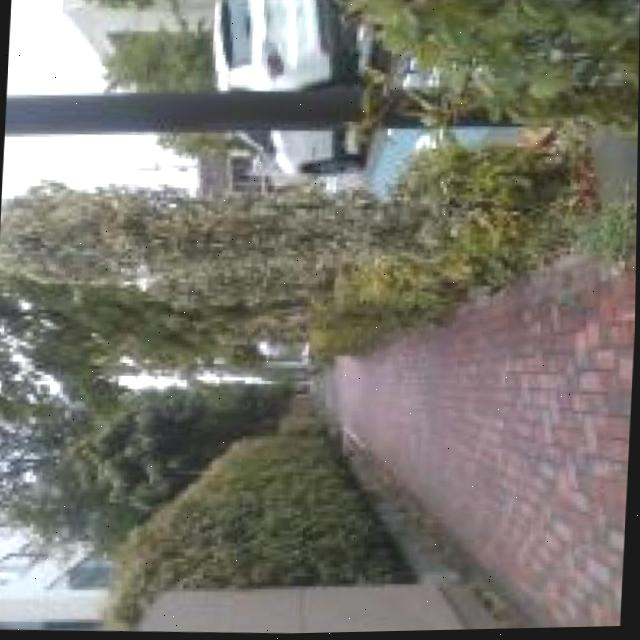Automobile: (213, 0, 387, 92), (237, 125, 367, 175)
Obstacle: (5, 0, 640, 140), (310, 147, 572, 361)
Road: (317, 131, 438, 198), (456, 129, 516, 145)
Sidewalk: (318, 259, 637, 630)
